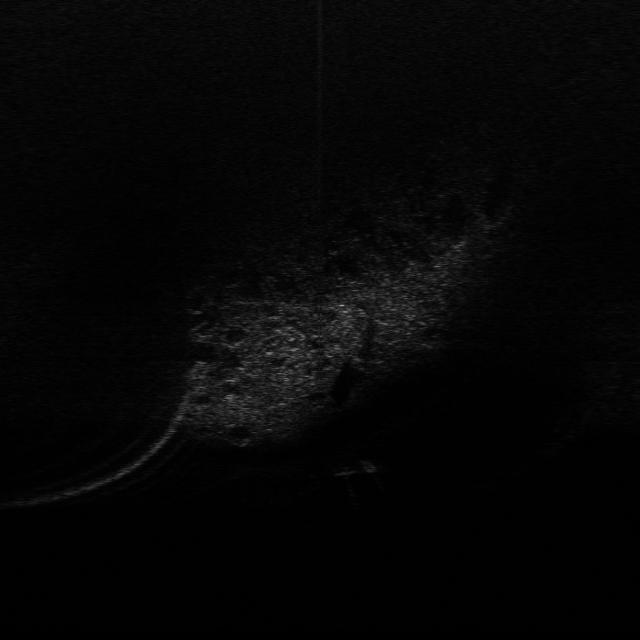cube: (328, 459, 357, 478)
cylinder: (358, 456, 381, 475)
